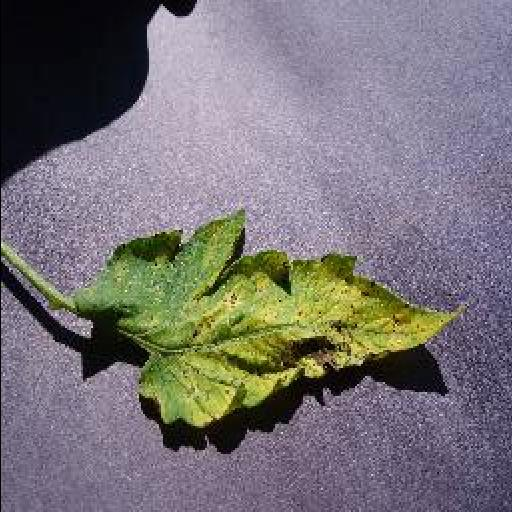disease_tomato: (72, 205, 468, 431)
